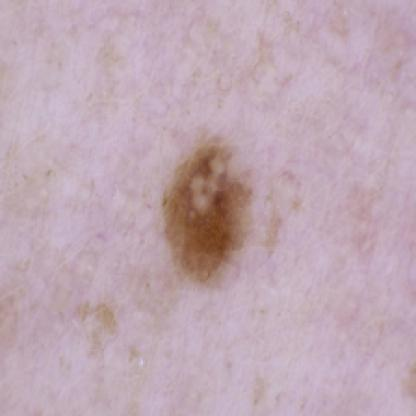benign: (160, 145, 262, 273)
